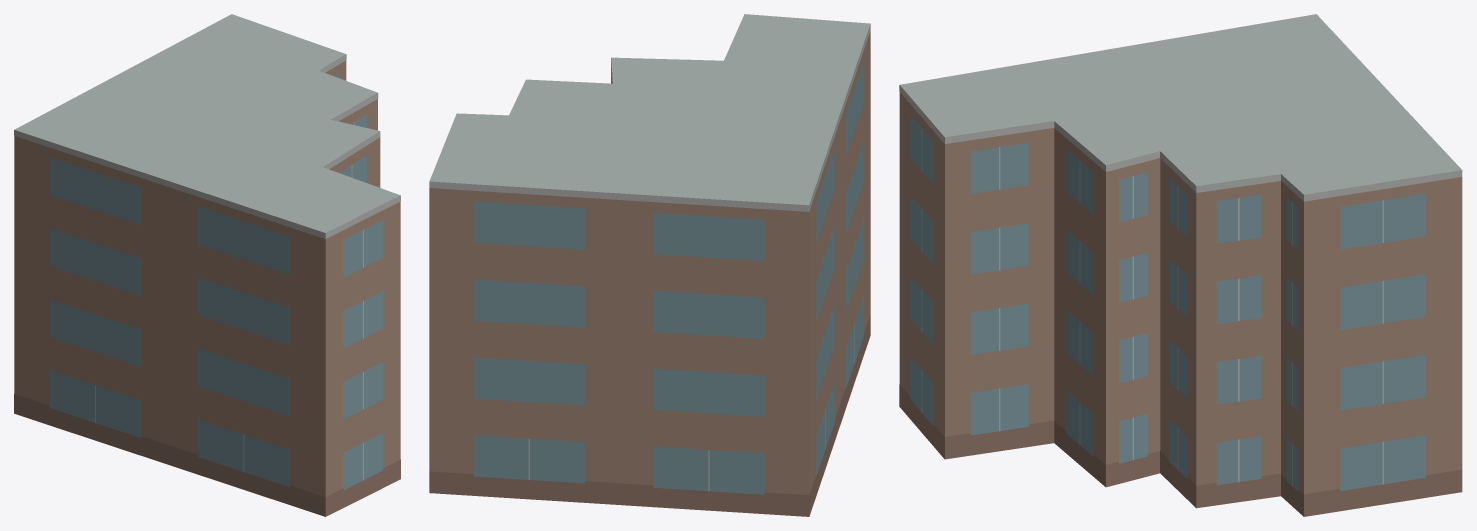
File: survey-upis-32853982.glb
The picture shows the model from 3 angles, left to right: view 1: azimuth 30°, elevation 25°; view 2: azimuth 150°, elevation 25°; view 3: azimuth 270°, elevation 25°; orthographic projection. The views are drawn at different scales.
Parts seen in each view (by area): view 1: survey-upis-32853982.tmp; view 2: survey-upis-32853982.tmp; view 3: survey-upis-32853982.tmp.
Boxes of the visible parts, x1,y1,x2,y2 form: survey-upis-32853982.tmp: (14,14,400,516); survey-upis-32853982.tmp: (429,14,870,516); survey-upis-32853982.tmp: (899,14,1462,516).
Size of the model in its own units: 13.98 by 11.6 by 18.38.
